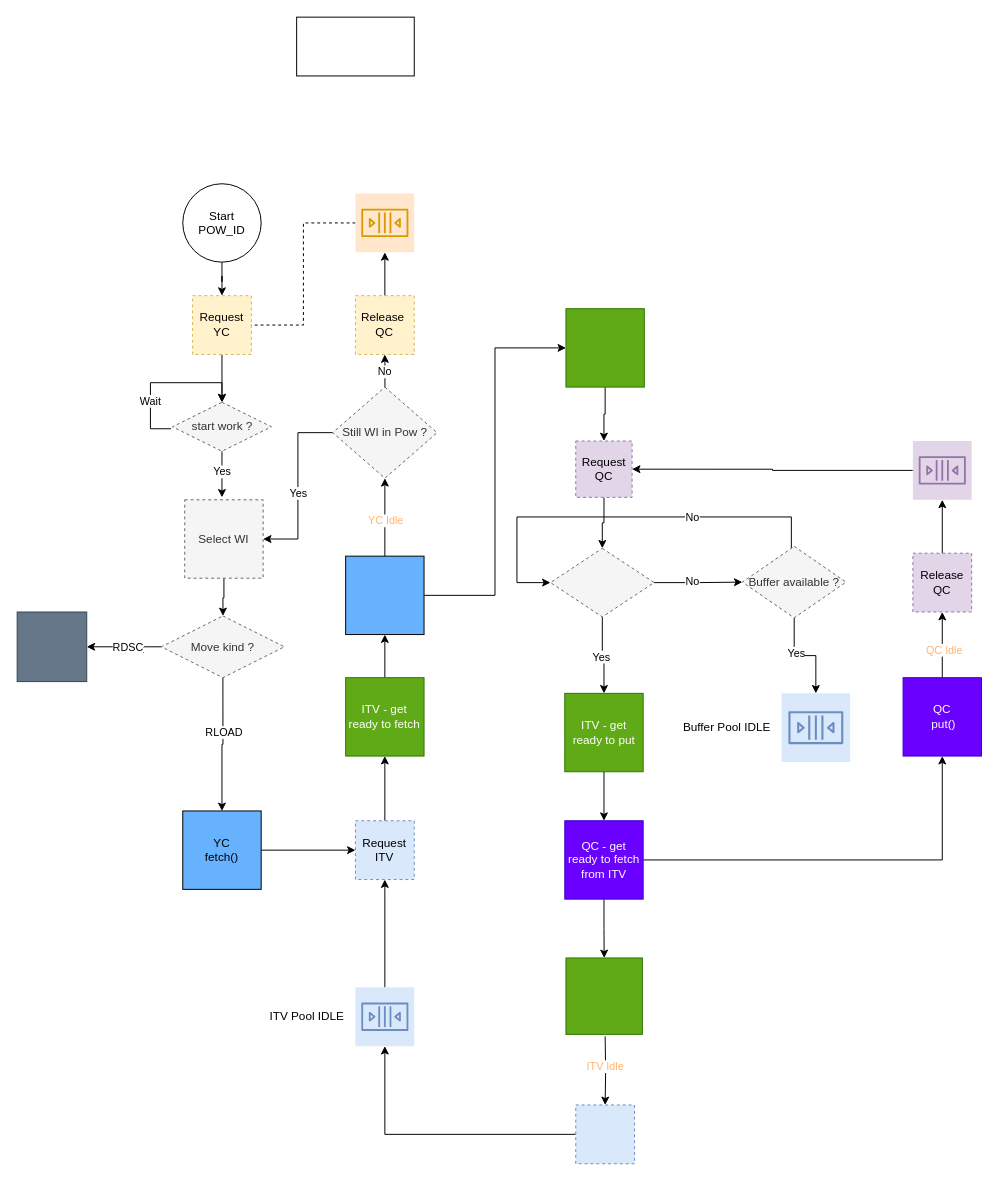
Some shapes in this 999 by 1181 pixel diagram are drawn without their labels. Here are the shapes that lost their labels. From the top down, the box of each, then its label:
(296, 16, 414, 76): Rail LOAD
(354, 193, 414, 252): YC Pool IDLE
(565, 308, 644, 387): ITV - Carry
(912, 440, 972, 500): QC Pool IDLE
(345, 555, 424, 635): YC get ready to put to ITV
(549, 547, 654, 617): Rail available ?
(16, 611, 87, 682): Launch RDSC Function
(565, 957, 642, 1034): ITV - get relaese from QC
(575, 1104, 635, 1164): Release ITV
